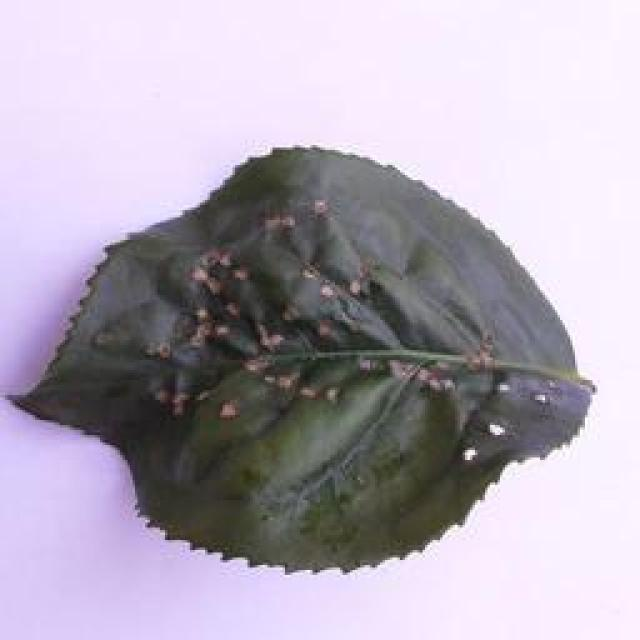Helopeltis: (6, 138, 585, 570)
